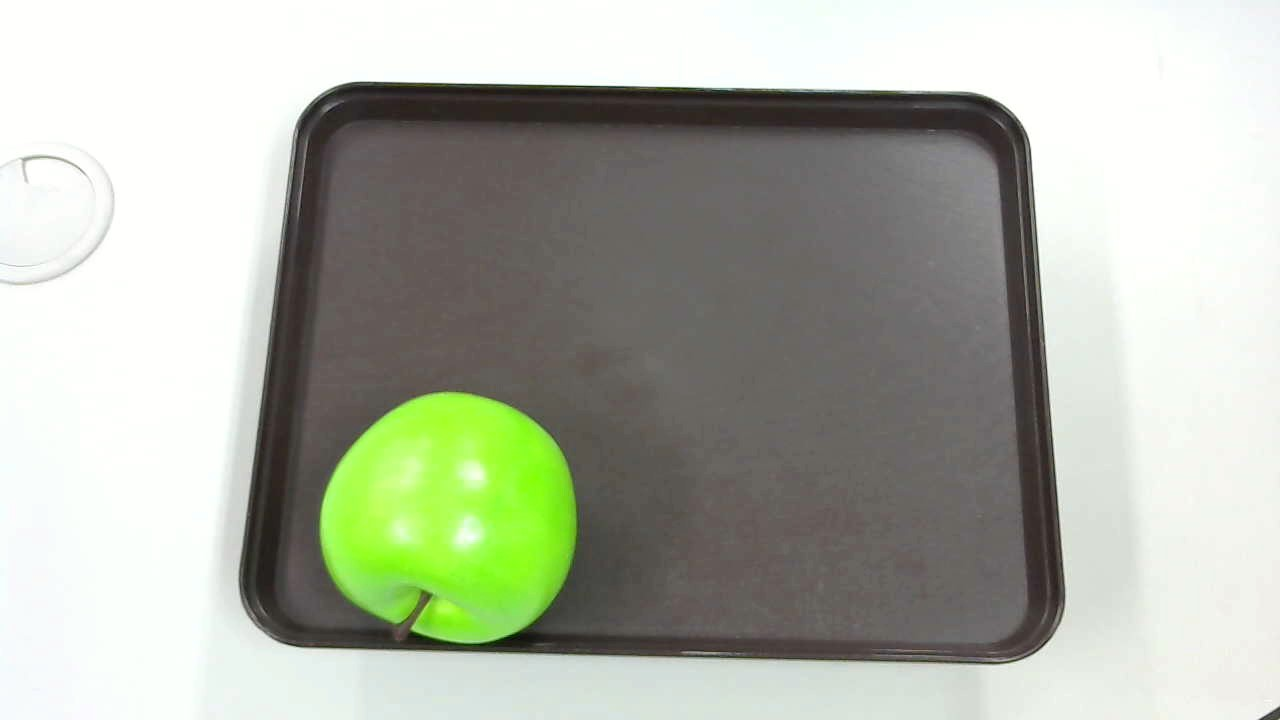green apple: (307, 385, 591, 664)
